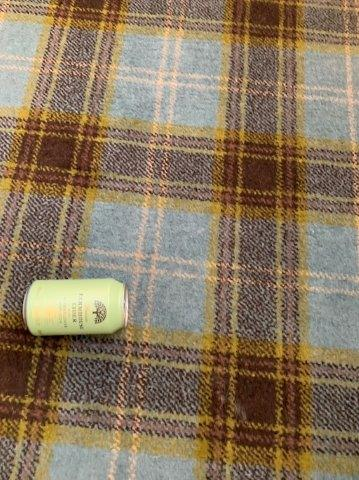kaleng: (23, 279, 127, 334)
